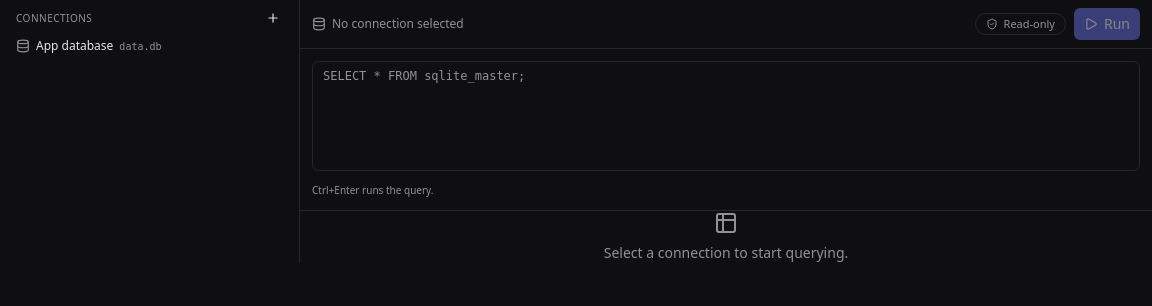
Scenario: DatabasePage write safety › turns the toggle back off, taking the warning with it
Click the button "App database data.db" at (136, 46), box [16,38,257,54]
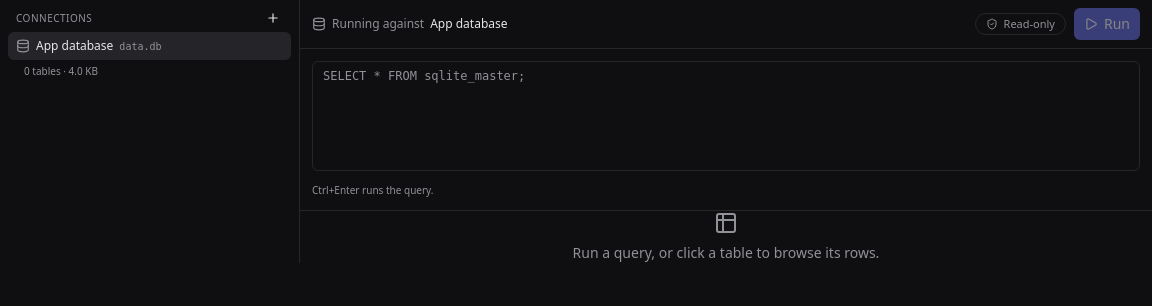
Result: the text "0 tables · 4.0 KB" is shown at [24,64,98,78]
Click the button with aria-label "Allow SQL writes" at (1020, 24), box [974,13,1066,35]
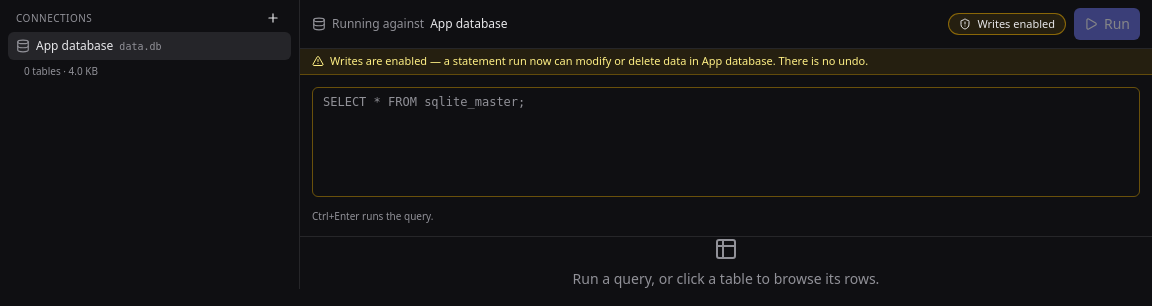
Result: the text "There is no undo" is shown at [773,53,868,68]
Click the button with aria-label "Allow SQL writes" at (1007, 24), box [948,13,1066,35]
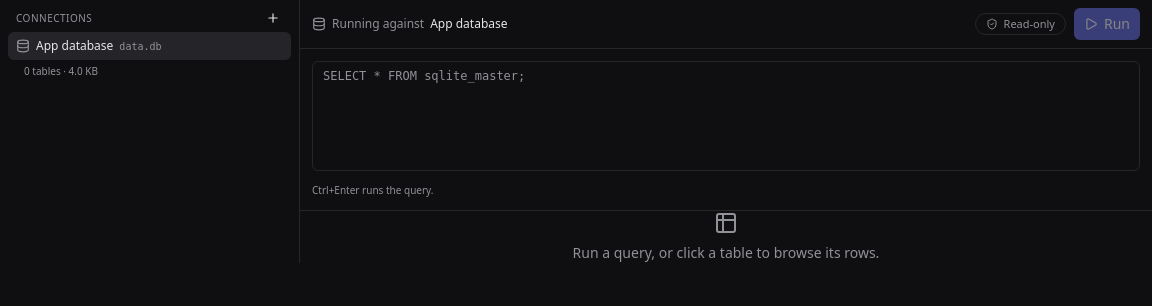
Result: the button with aria-label "Allow SQL writes" reads "Read-only" at [974,13,1066,35]
Result: the text "There is no undo" is gone
